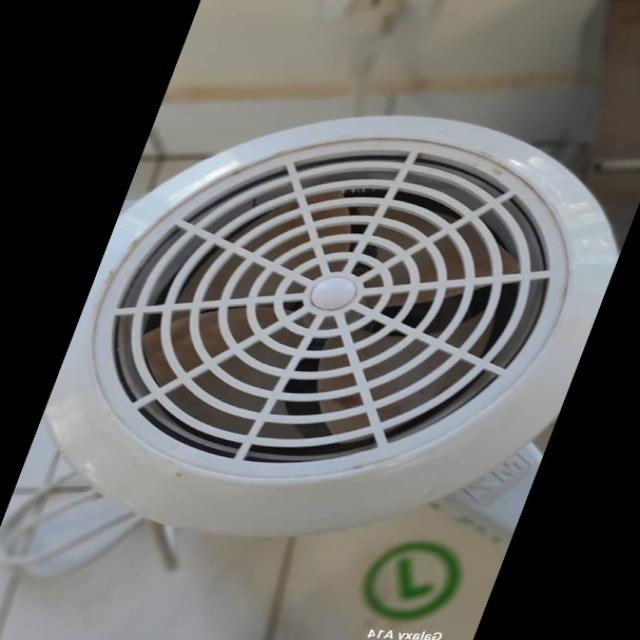Distilled Water Maker: (1, 95, 640, 548)
